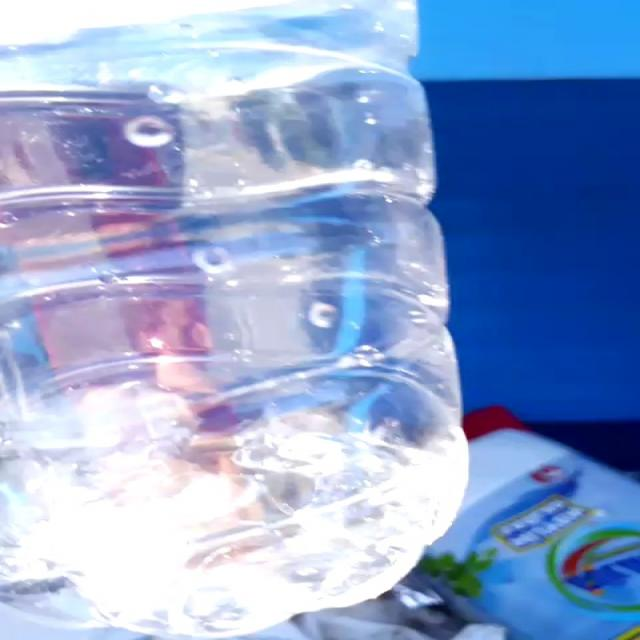plastic: (3, 0, 468, 638)
